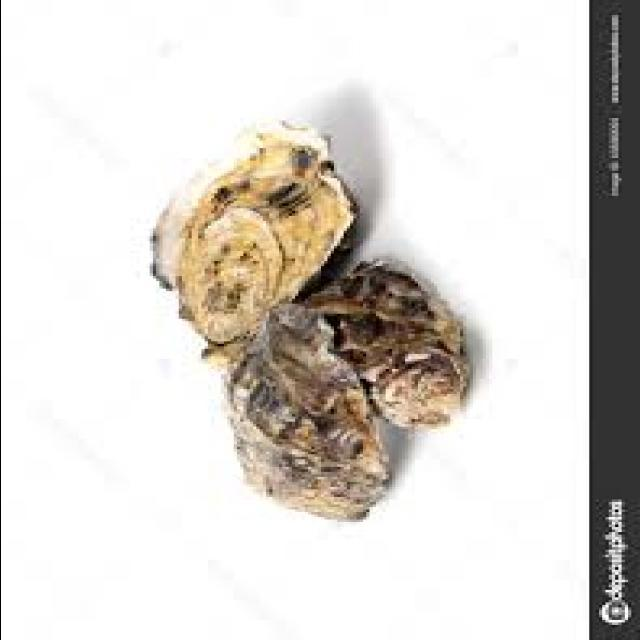Oyster- Indeterminate: (151, 121, 359, 361), (222, 305, 391, 524), (302, 261, 471, 423)
